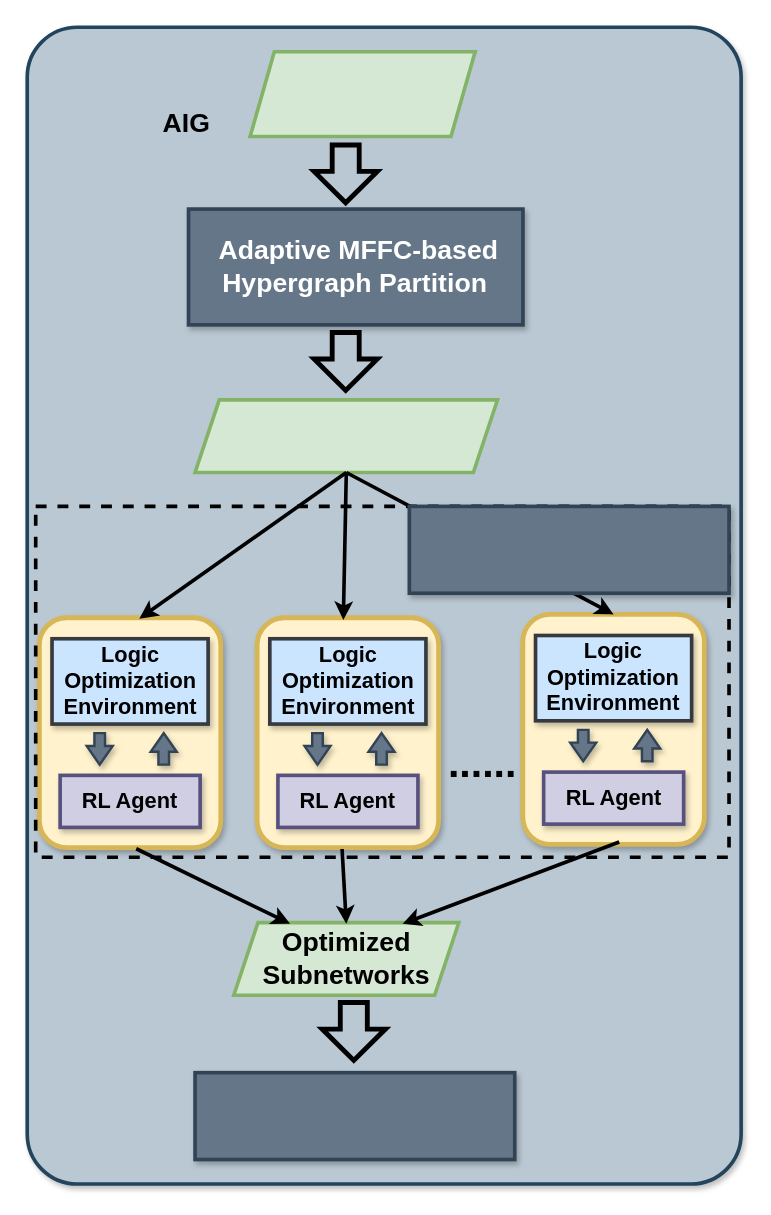
This 771x1215 diagram has some shape labels left out. The shapes that lost their labels are listed below. From the top down, each one's centre as x and y in pixels, then its label:
At [362,93]: "And Inverter Graph".
At [346,435]: "Gate Level Verilog Subnetwrks".
At [569,551]: "Parallel RL-based Logic Optimization".
At [355,1117]: "Subnetworks Merge".
